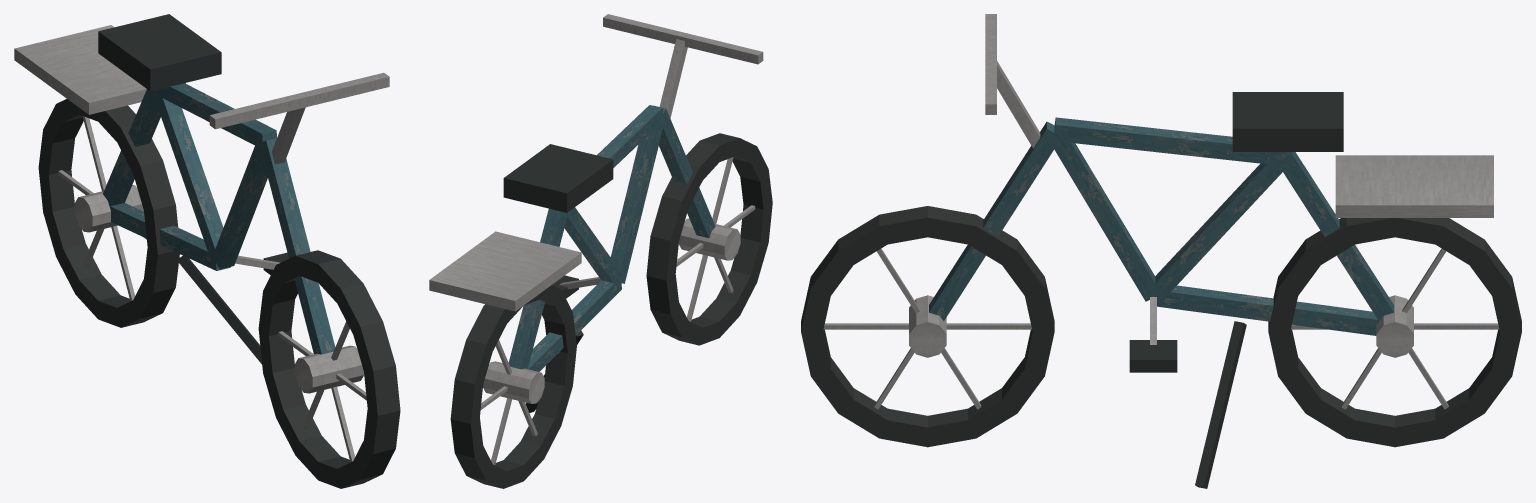
The model's file is city_bicycle.glb.
3 renders of one model, left to right at view 1: azimuth 30°, elevation 25°; view 2: azimuth 150°, elevation 25°; view 3: azimuth 270°, elevation 25°, orthographic. The views are drawn at different scales.
Visible parts, largest first — view 1: root; view 2: root; view 3: root.
Boxes of the visible parts, x1,y1,x2,y2 form: root: (14,14,400,488); root: (429,14,772,488); root: (801,14,1521,488).
Size of the model in its own units: 0.55 by 1.09 by 1.82.
Materials: 1 (1 with a texture image).
